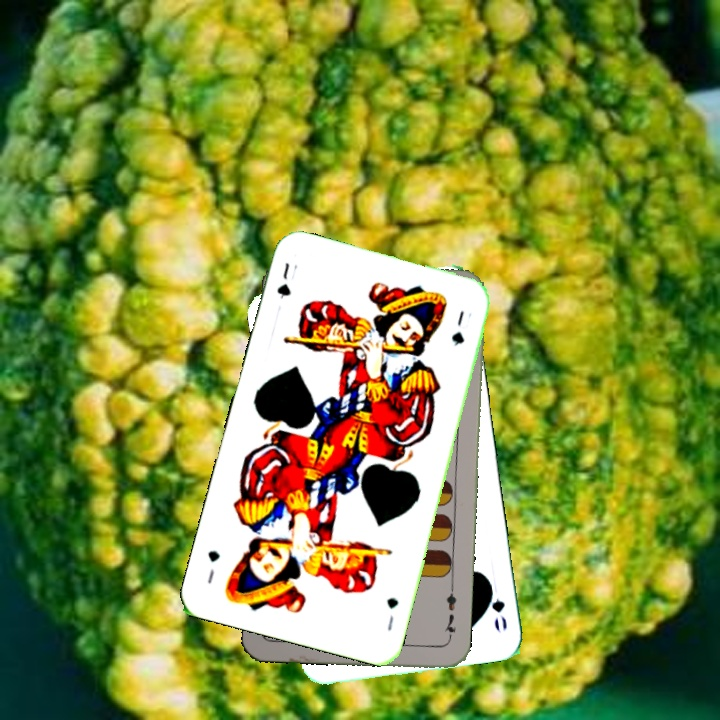E7: (441, 584, 459, 643)
GO: (483, 576, 510, 634)
GU: (272, 258, 294, 301), (382, 593, 402, 634)
